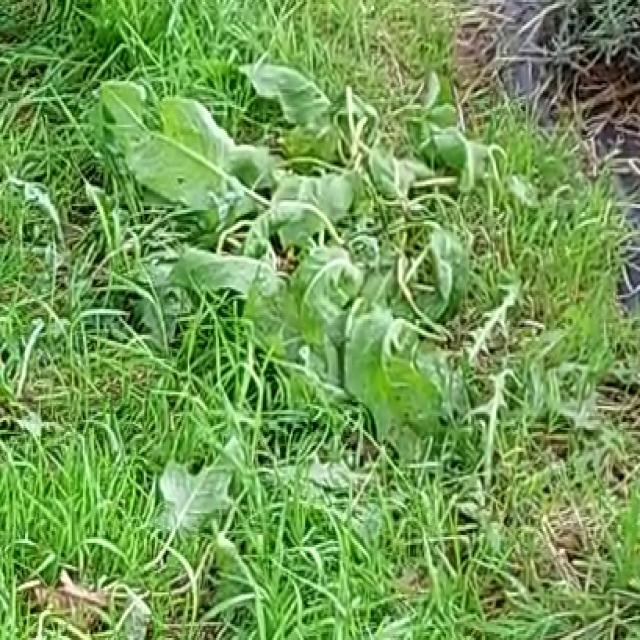organic waste: (197, 103, 510, 458), (97, 46, 455, 297)
